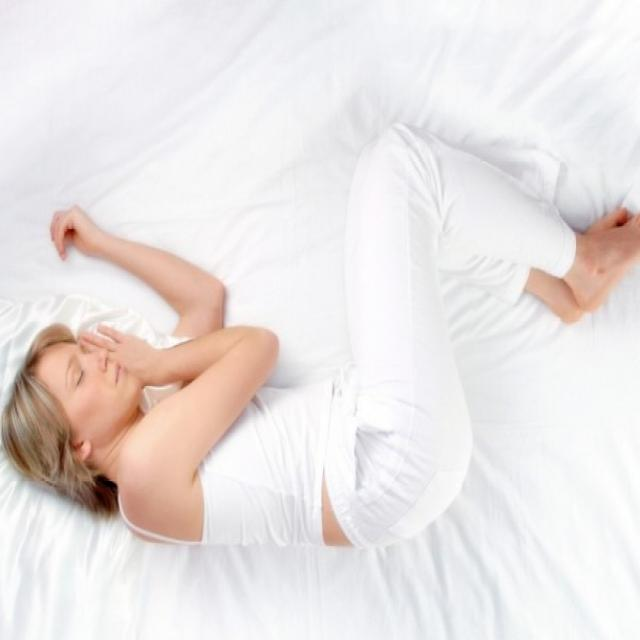people: (4, 101, 638, 564)
